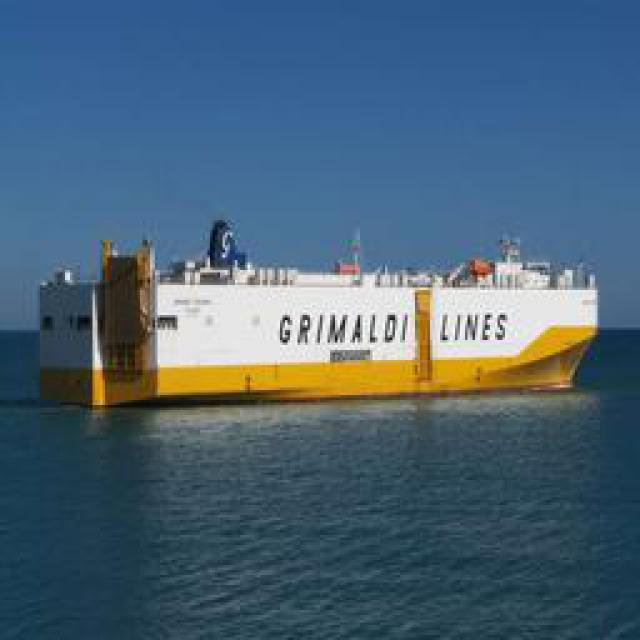Ship: (30, 219, 595, 404)
